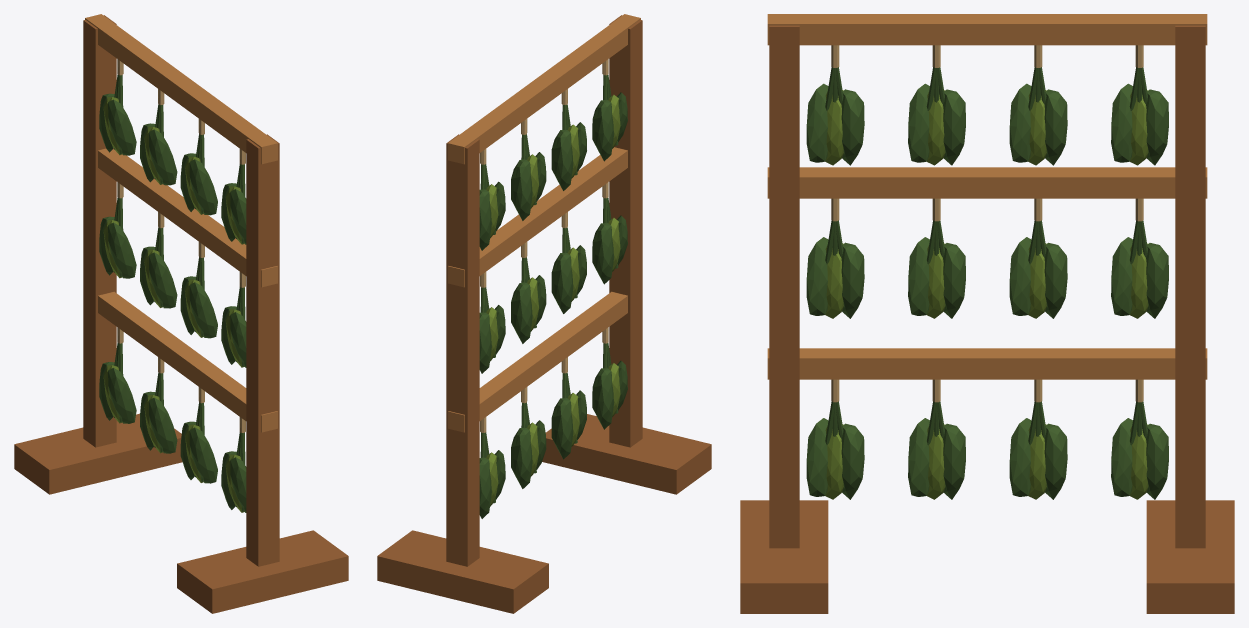
The model's file is 116_herb_drying_frame.fbx.
The picture shows the model from 3 angles, left to right: view 1: azimuth 30°, elevation 25°; view 2: azimuth 150°, elevation 25°; view 3: azimuth 270°, elevation 25°; orthographic projection. The views are drawn at different scales.
Parts seen in each view (by area): view 1: 116_herb_drying_frame; view 2: 116_herb_drying_frame; view 3: 116_herb_drying_frame.
Part boxes in pixels (x1,y1,x2,y2): 116_herb_drying_frame: (14,14,348,613); 116_herb_drying_frame: (377,14,711,613); 116_herb_drying_frame: (740,14,1234,613).
Bounding box in the file's own units: 0.58 × 1.8 × 1.46.
Materials: 1 (1 with a texture image).
